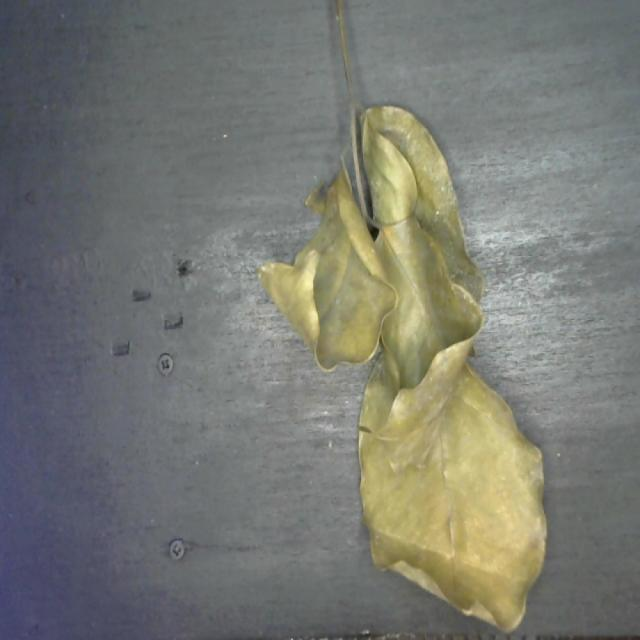biodegradable: (255, 97, 554, 640)
